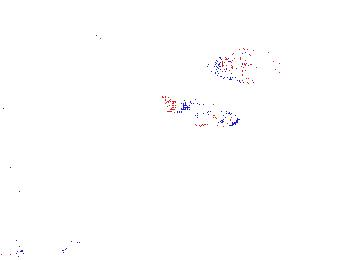X-ray fish: (207, 47, 288, 85)
redtail glassfish: (167, 97, 241, 128)
